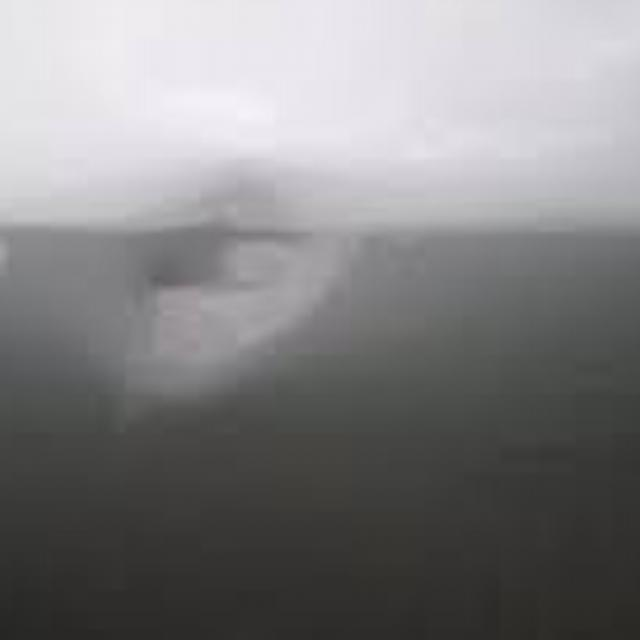dents: (94, 151, 348, 417)
